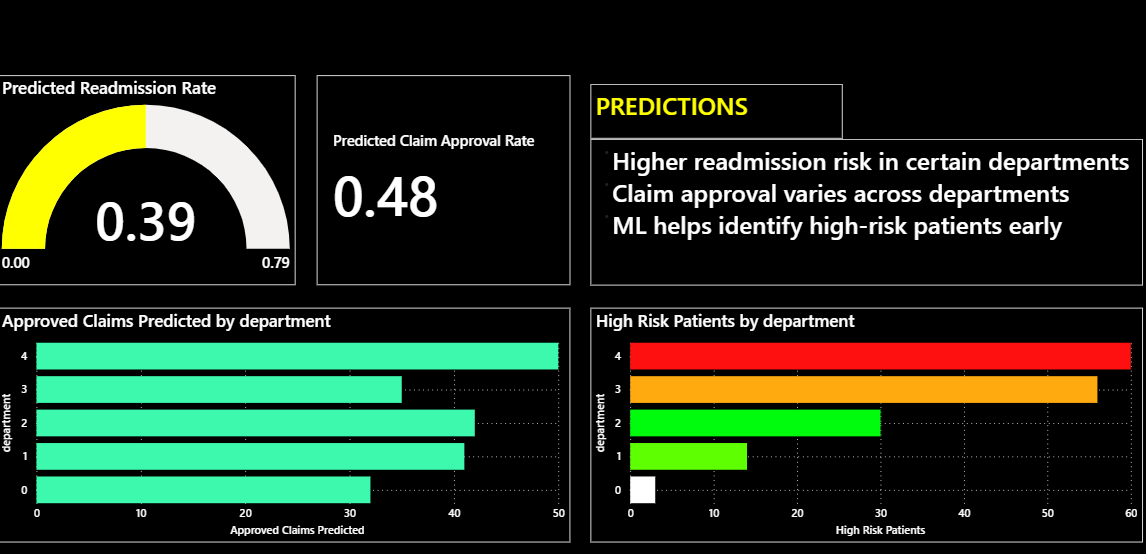

What the dashboard file says about the page in this screenshot:
{"tool":"powerbi","page":{"name":"Page 5","canvas":[1280,720],"ordinal":4},"visuals":[{"type":"gauge","fields":{"Y":["Avg_Stay_Days.Predicted Readmission Rate"]},"box":[9.6,182.5,328,230.5],"z":0},{"type":"cardVisual","fields":{"Data":["final_healthcare_ml_output.Predicted Claim Approval Rate"]},"box":[360.9,182.5,278.6,230.5],"z":1},{"type":"barChart","fields":{"Y":["final_healthcare_ml_output.High Risk Patients"],"Category":["final_healthcare_ml_output.department"]},"box":[661.4,437.7,606.5,258],"z":2},{"type":"barChart","fields":{"Category":["final_healthcare_ml_output.department"],"Y":["final_healthcare_ml_output.Approved Claims Predicted"]},"box":[9.6,437.7,629.8,258],"z":3},{"type":"textbox","box":[661.4,192.1,277.2,60.4],"z":4},{"type":"textbox","box":[661.4,252.5,606.5,160.5],"z":5}]}

Visuals, with their boxes on the page's 1280x720 design canvas (x1, y1, x2, y2). These are canvas units, not pixel positions in the 1146x554 screenshot, which may show the page scaled, cropped or inside an application window:
gauge - Avg_Stay_Days.Predicted Readmission Rate: crop(10, 182, 338, 413)
cardVisual - final_healthcare_ml_output.Predicted Claim Approval Rate: crop(361, 182, 640, 413)
barChart - final_healthcare_ml_output.High Risk Patients x final_healthcare_ml_output.department: crop(661, 438, 1268, 696)
barChart - final_healthcare_ml_output.department x final_healthcare_ml_output.Approved Claims Predicted: crop(10, 438, 639, 696)
textbox: crop(661, 192, 939, 252)
textbox: crop(661, 252, 1268, 413)
